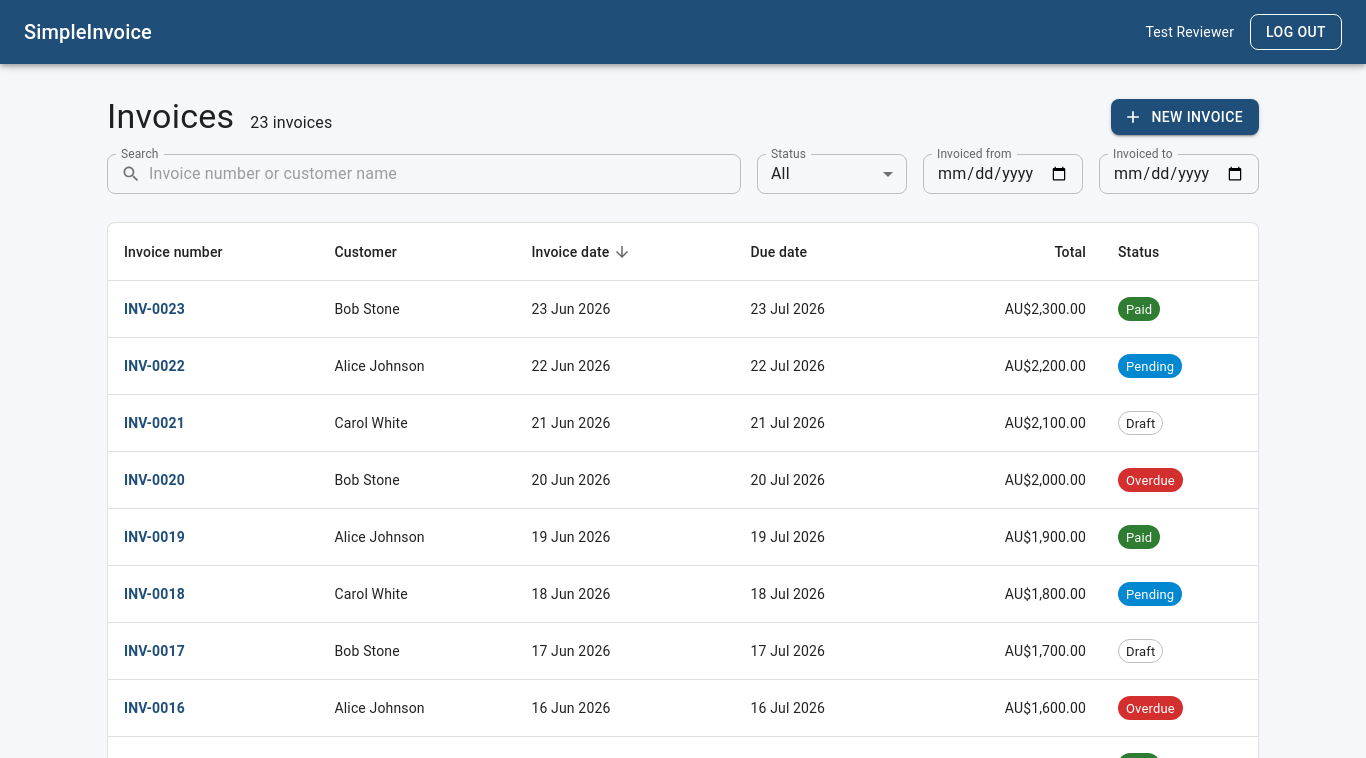
it: InvoiceListPage › status filter › filters by Pending
This screenshot has width=1366, height=758.
Expected: the heading "Invoices" is shown, [107, 96, 234, 138]
Click the dropdown named "Status": (780, 174) [771, 164, 790, 184]
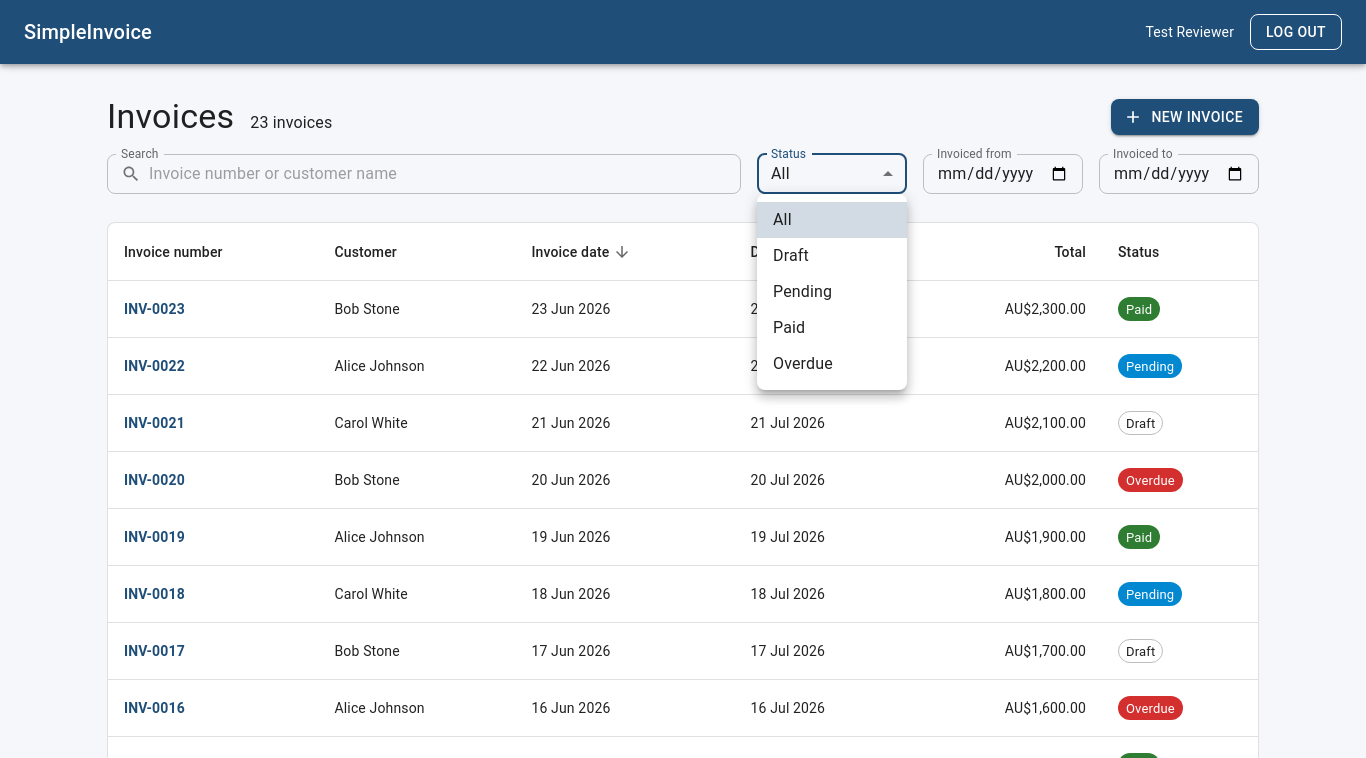
Click the option "Pending": (803, 292) [773, 282, 832, 301]
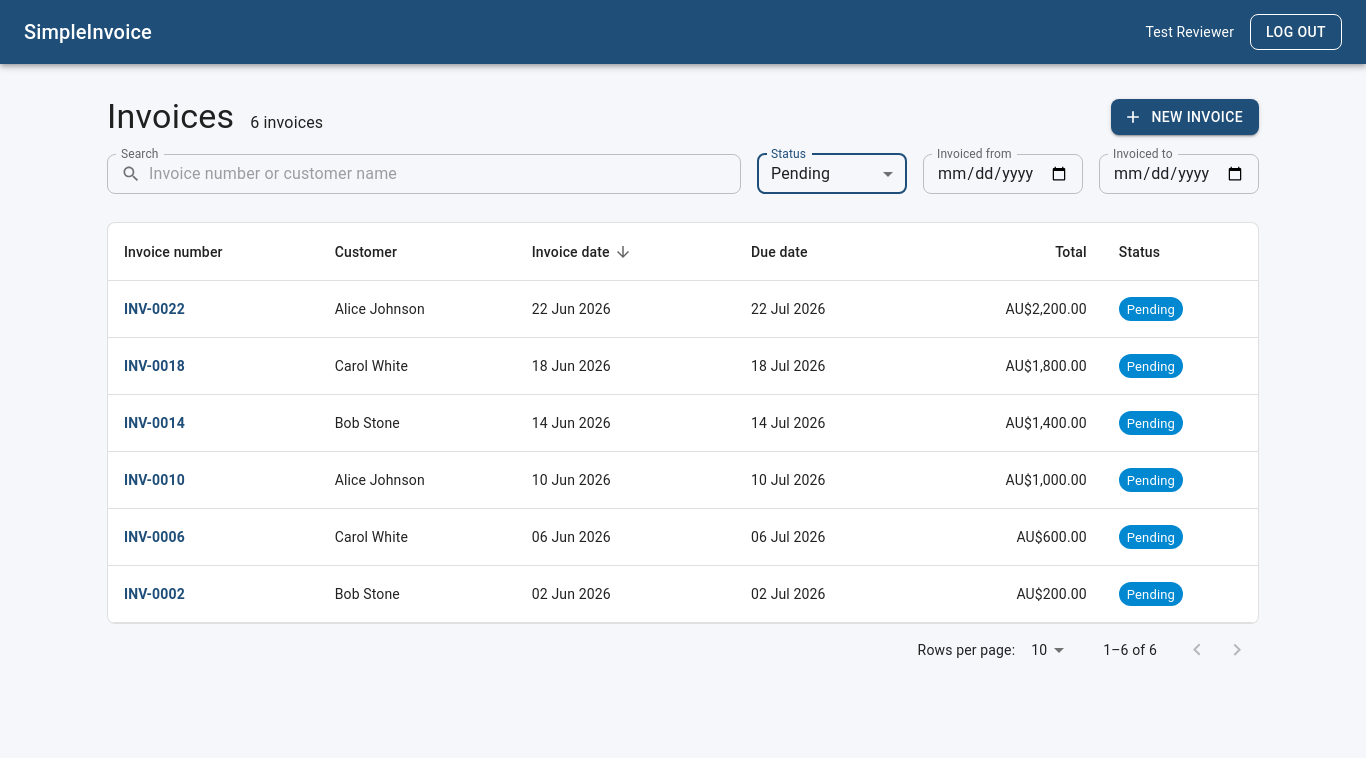
Expected: the dropdown named "Status" reads "Pending", [771, 164, 830, 184]
Expected: the cell "Pending" in the row of "INV-0010" is shown, [1127, 472, 1175, 488]
Expected: the cell "Pending" in the row of "INV-0006" is shown, [1127, 530, 1175, 544]
